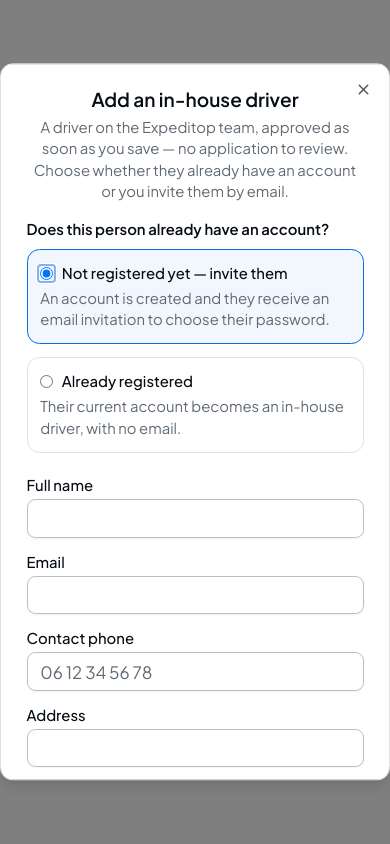
Test case: CreateDriverDialog › drops the name for a registered account, which keeps its own
Click the radio button labelled "Already registered" at [47, 382], box [40,375,53,388]
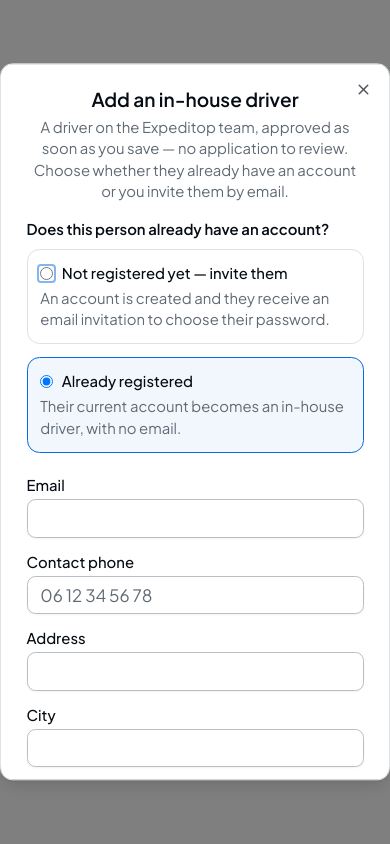
Expected: the field labelled "Email" is shown, [26,500,364,538]
Expected: the label labelled "Full name" is gone
